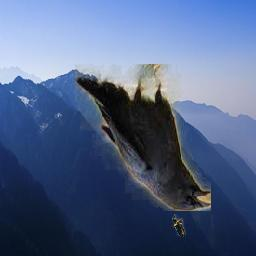Crow: (75, 65, 211, 212), (172, 215, 186, 238)
